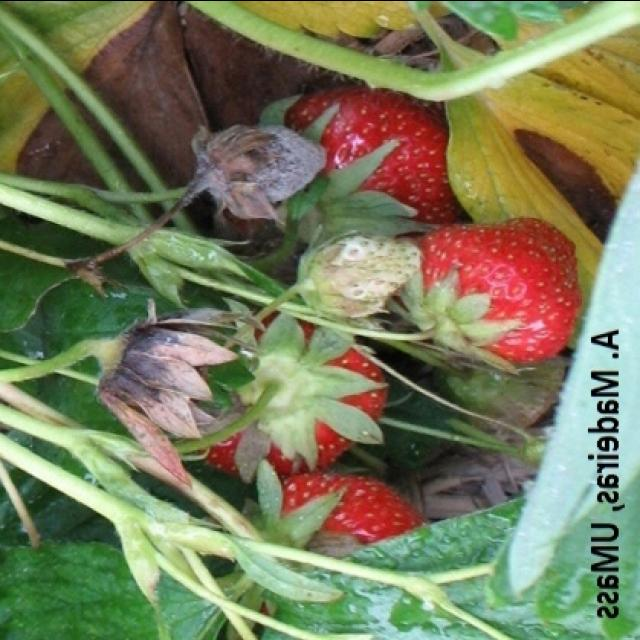Gray Mold: (194, 123, 327, 217)
